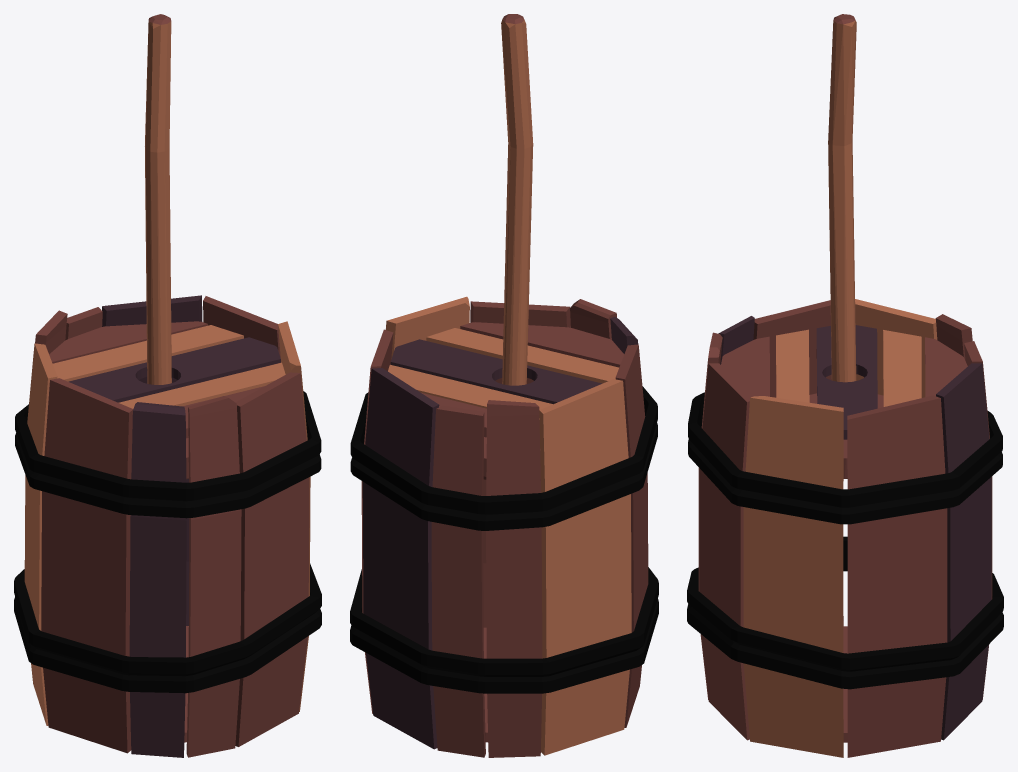
Rendered from PoorMan Butter Barrel.fbx.
3 renders of one model, left to right at view 1: azimuth 30°, elevation 25°; view 2: azimuth 150°, elevation 25°; view 3: azimuth 270°, elevation 25°, orthographic.
Parts seen in each view (by area): view 1: Butter Barrel, Butter Barrel Lid, Butter Barrel Handle; view 2: Butter Barrel, Butter Barrel Lid, Butter Barrel Handle; view 3: Butter Barrel, Butter Barrel Lid, Butter Barrel Handle.
Boxes of the visible parts, <box> form: Butter Barrel: <box>14,295,321,757</box>; Butter Barrel Lid: <box>49,321,285,438</box>; Butter Barrel Handle: <box>145,14,188,479</box>; Butter Barrel: <box>350,296,658,757</box>; Butter Barrel Lid: <box>388,322,624,437</box>; Butter Barrel Handle: <box>483,14,540,479</box>; Butter Barrel: <box>687,299,1003,757</box>; Butter Barrel Lid: <box>721,325,967,439</box>; Butter Barrel Handle: <box>809,14,883,478</box>.
Bounding box in the file's own units: 57.82 × 138 × 58.13.
